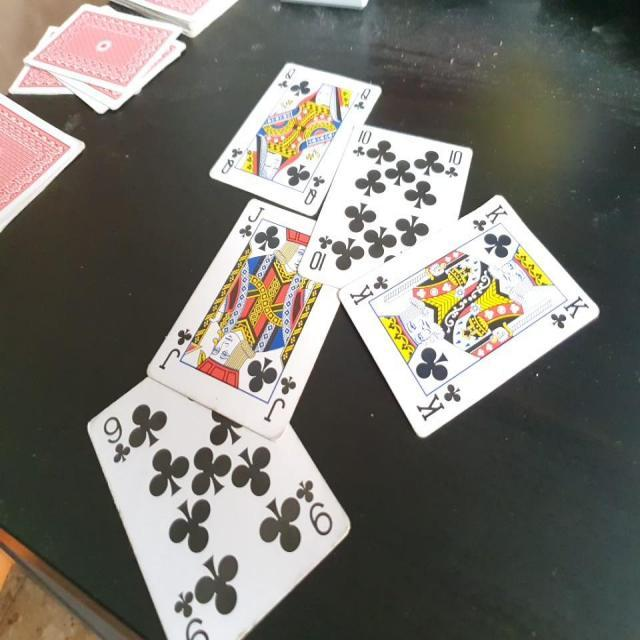10 of clubs: (295, 122, 474, 286)
9 of clubs: (84, 376, 354, 639)
jack of clubs: (144, 196, 342, 442)
king of clubs: (338, 192, 601, 439)
queen of clubs: (207, 63, 382, 214)
